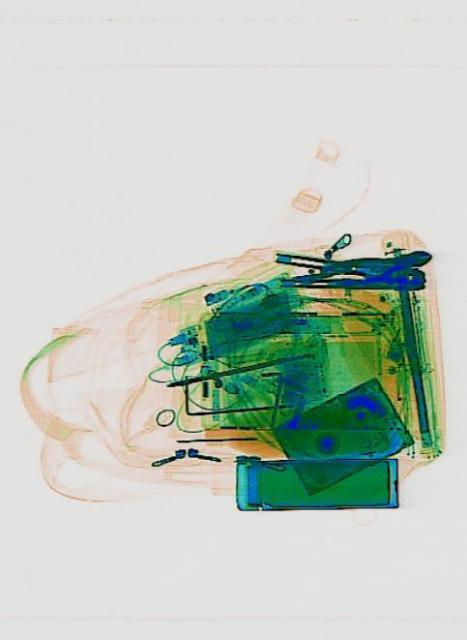Pliers: (289, 238, 433, 300), (270, 248, 425, 298)
